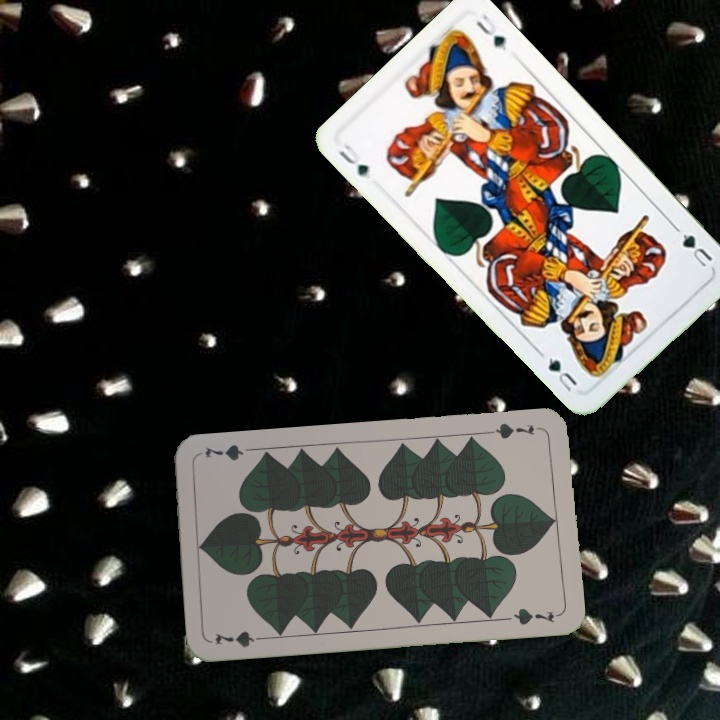G7: (211, 627, 270, 650), (486, 419, 545, 442)
GU: (334, 140, 372, 180), (678, 229, 715, 270)
